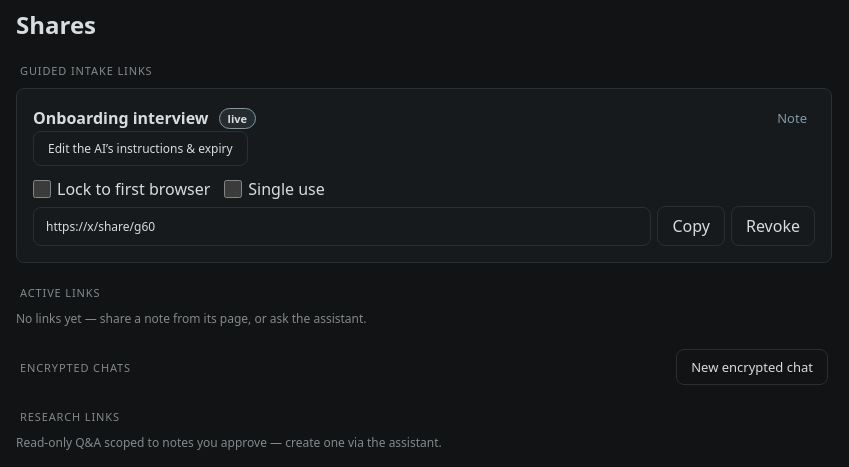
SharesPage — guided link editor + options › revokes a live guided link (shared revoke POST) and drops it optimistically
Expected: the text "Onboarding interview" is shown, [33, 107, 209, 129]
Click the button "Revoke" at (773, 226), box [731, 206, 815, 246]
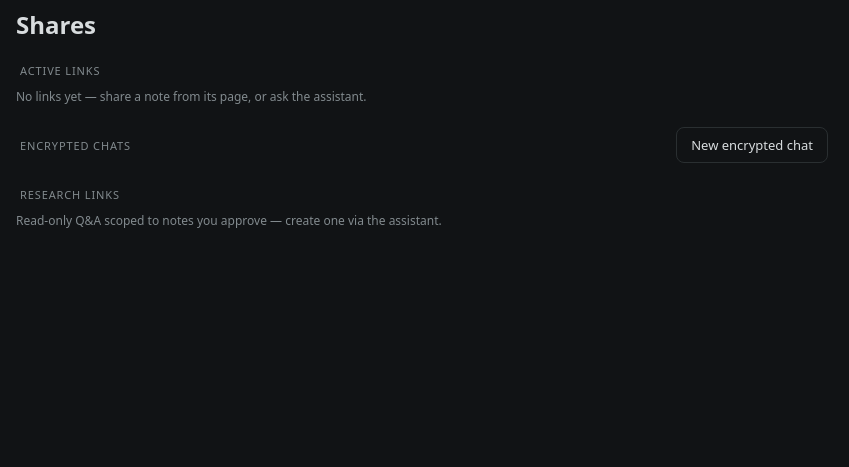
Result: the text "Onboarding interview" is gone
